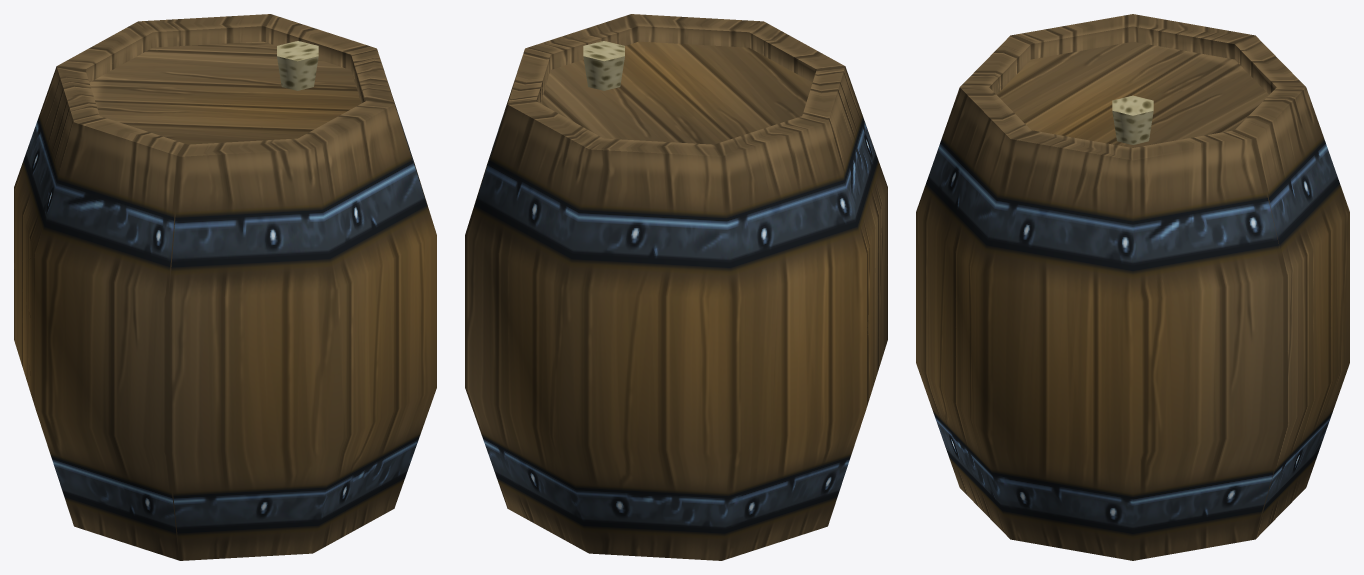
Rendered from barrelA.fbx.
The picture shows the model from 3 angles, left to right: view 1: azimuth 30°, elevation 25°; view 2: azimuth 150°, elevation 25°; view 3: azimuth 270°, elevation 25°; orthographic projection.
Parts seen in each view (by area): view 1: barrelA; view 2: barrelA; view 3: barrelA.
Boxes of the visible parts, left/top/right/bottom form: barrelA: left=14, top=14, right=436, bottom=560; barrelA: left=465, top=14, right=887, bottom=560; barrelA: left=916, top=14, right=1349, bottom=560.
Bounding box in the file's own units: 81.06 × 85.98 × 81.06.
1 material, 1 textured.
